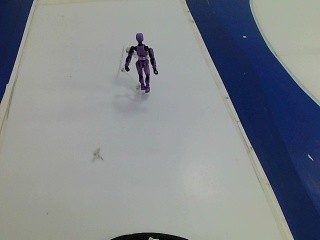pedestrian: (114, 26, 162, 103)
